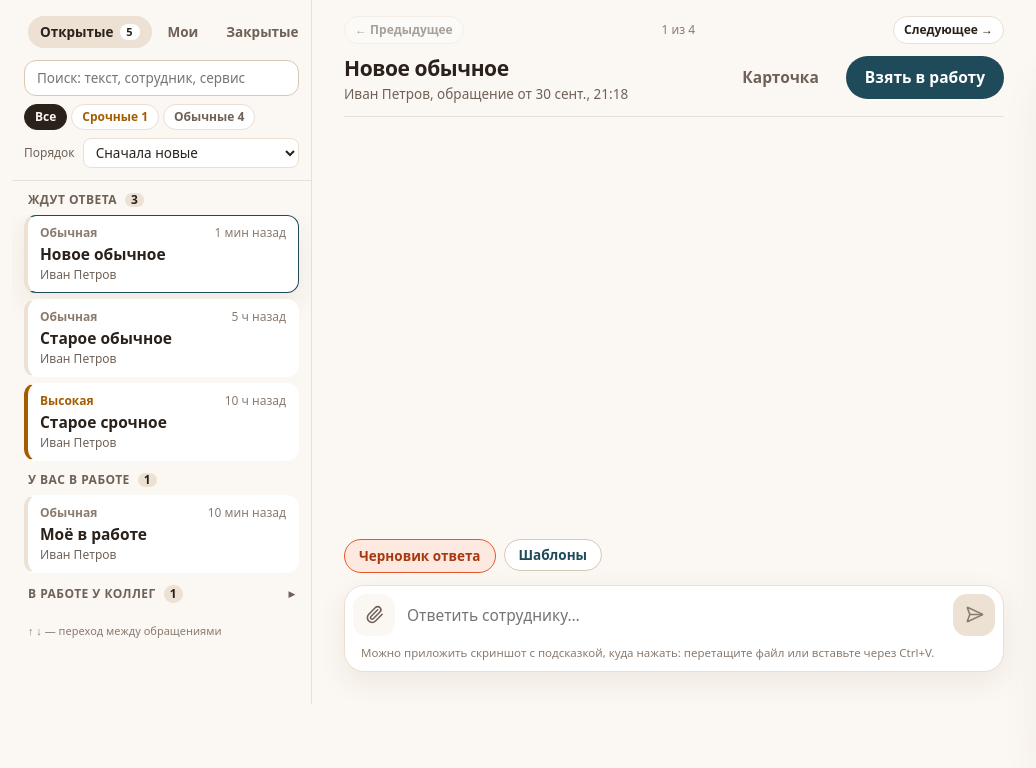
the specialist's queue › walks the queue with «Следующее» and the arrow keys
Expected: the text "1 из 4" is shown, [662, 21, 695, 39]
Click the button "Следующее →" at (949,30), box [893, 16, 1004, 44]
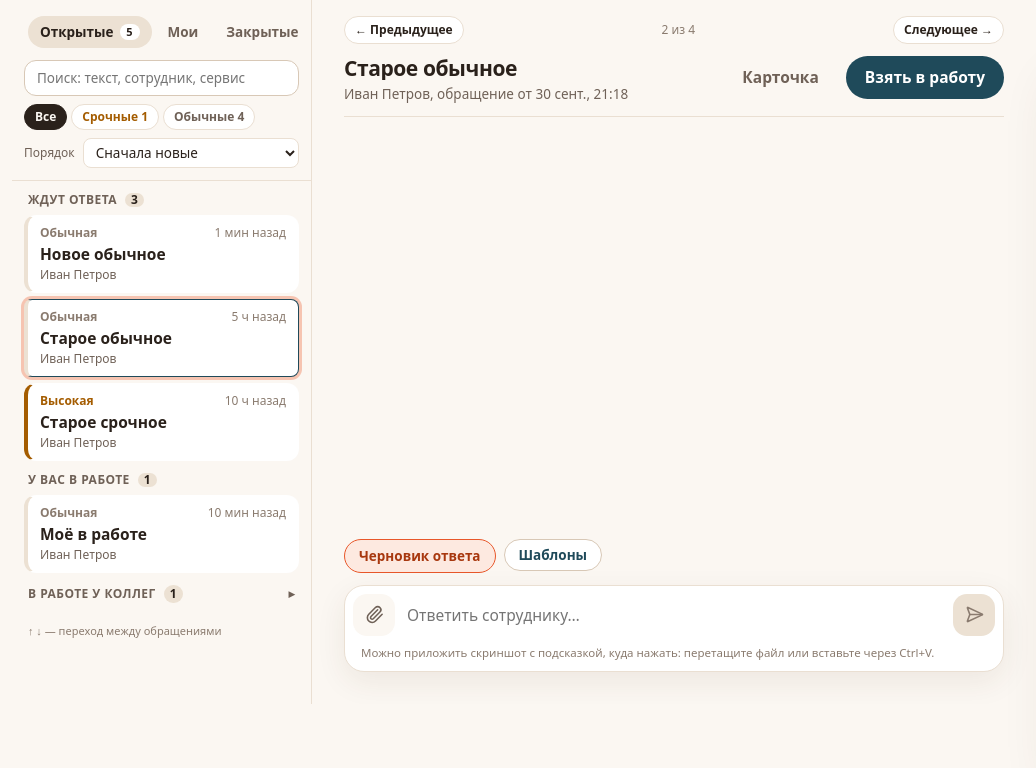
Expected: the text "2 из 4" is shown, [662, 21, 695, 39]
Expected: the heading "Старое обычное" is shown, [344, 54, 517, 82]
Press Arrowdown
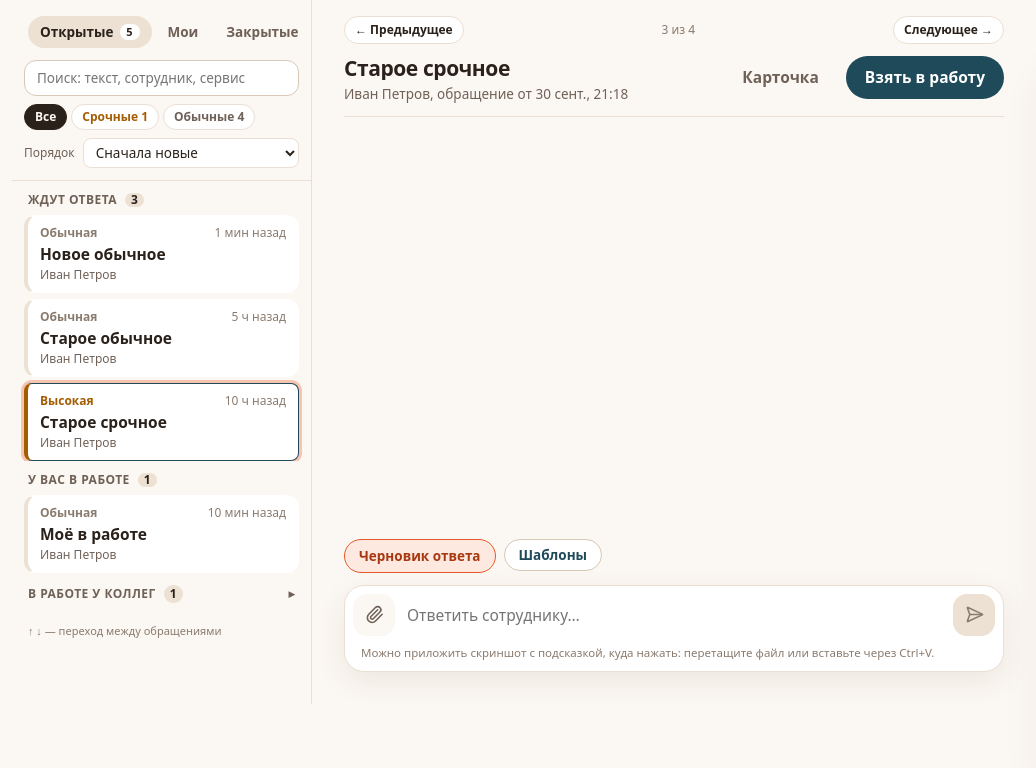
Expected: the text "3 из 4" is shown, [662, 21, 695, 39]
